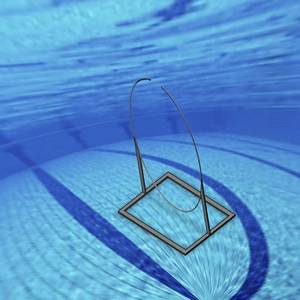circle: (117, 74, 235, 255)
